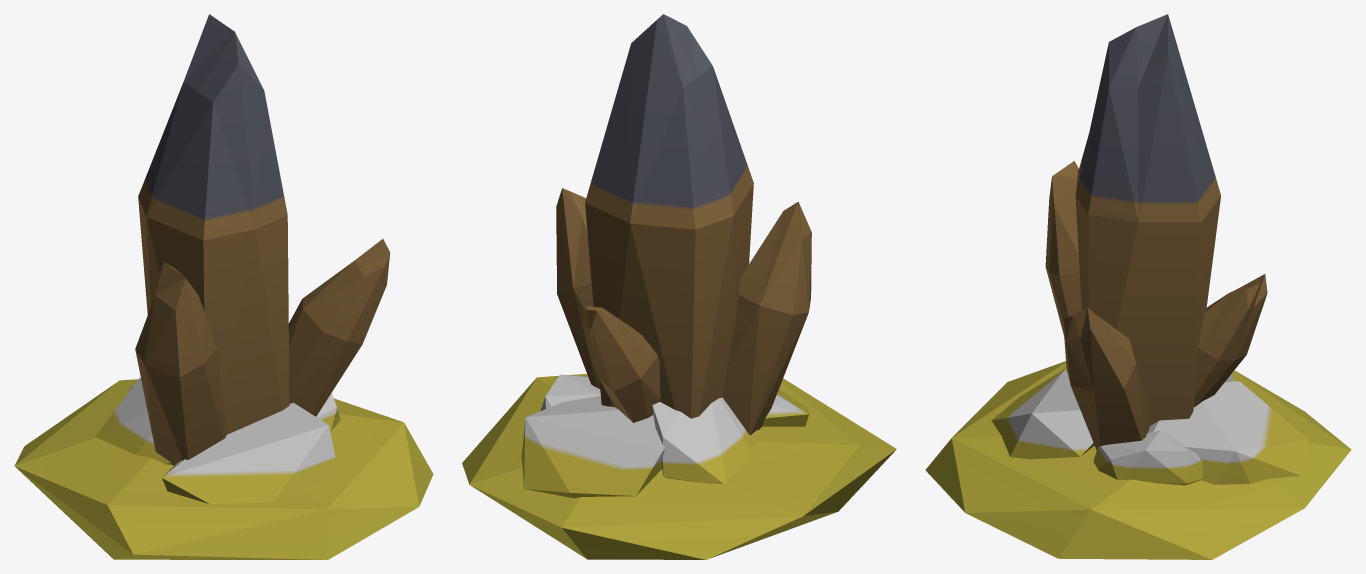
File: Crystal_02.fbx
3 renders of one model, left to right at view 1: azimuth 30°, elevation 25°; view 2: azimuth 150°, elevation 25°; view 3: azimuth 270°, elevation 25°, orthographic.
Parts seen in each view (by area): view 1: Crystal_02; view 2: Crystal_02; view 3: Crystal_02.
Boxes of the visible parts, x1,y1,x2,y2 form: Crystal_02: [14, 14, 433, 559]; Crystal_02: [462, 14, 896, 559]; Crystal_02: [925, 14, 1351, 559].
Size of the model in its own units: 1.09 by 1.48 by 1.18.
